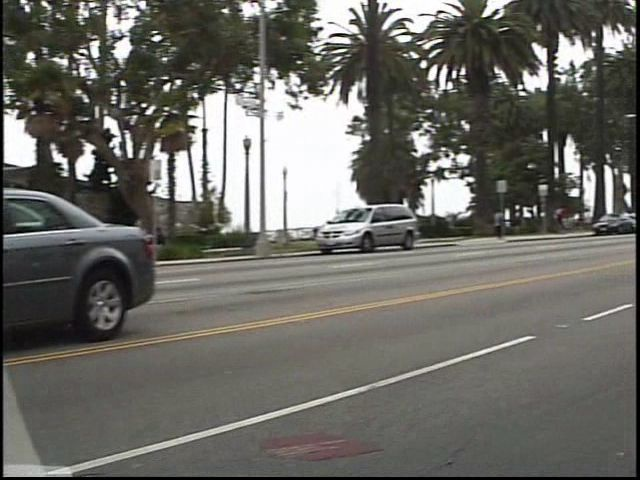person: (499, 201, 520, 240)
